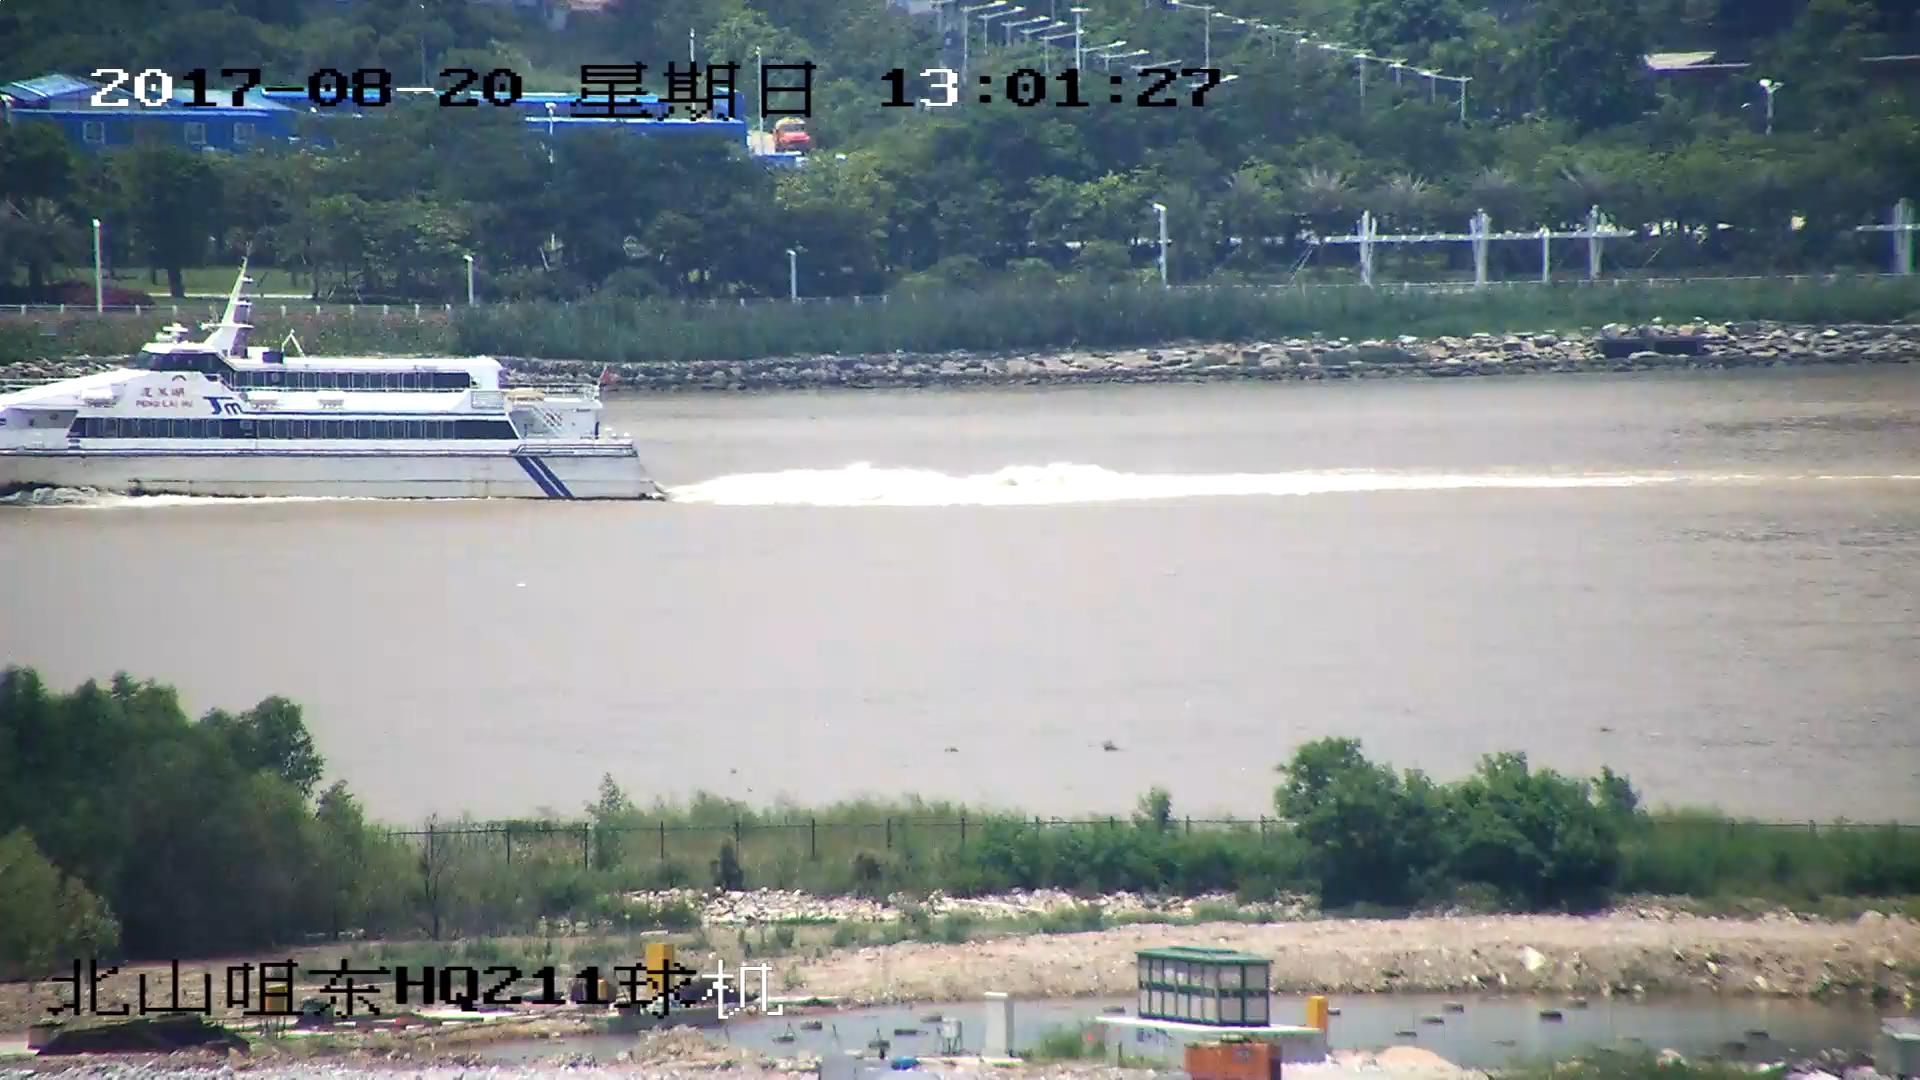passenger ship: (1, 256, 669, 507)
